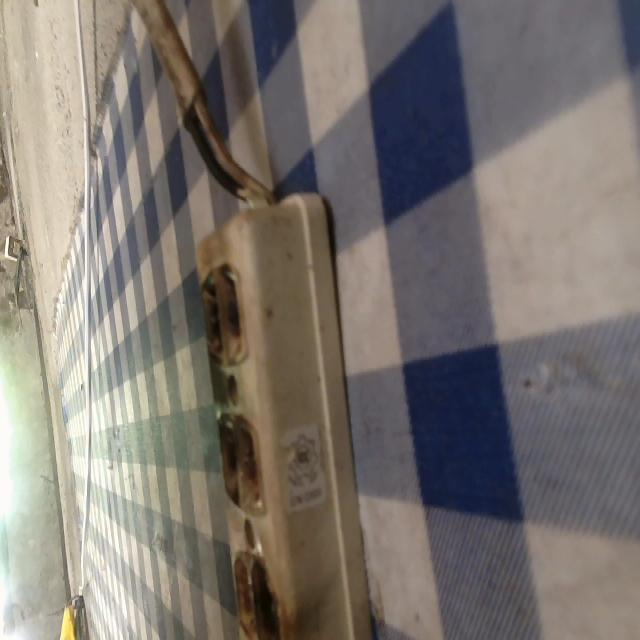-: (214, 407, 266, 512), (200, 258, 250, 366), (231, 546, 285, 638)
